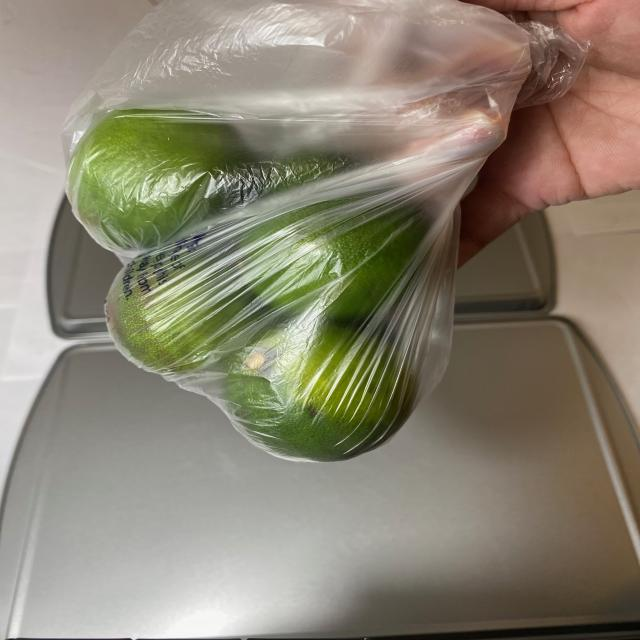lemon: (67, 93, 439, 460)
